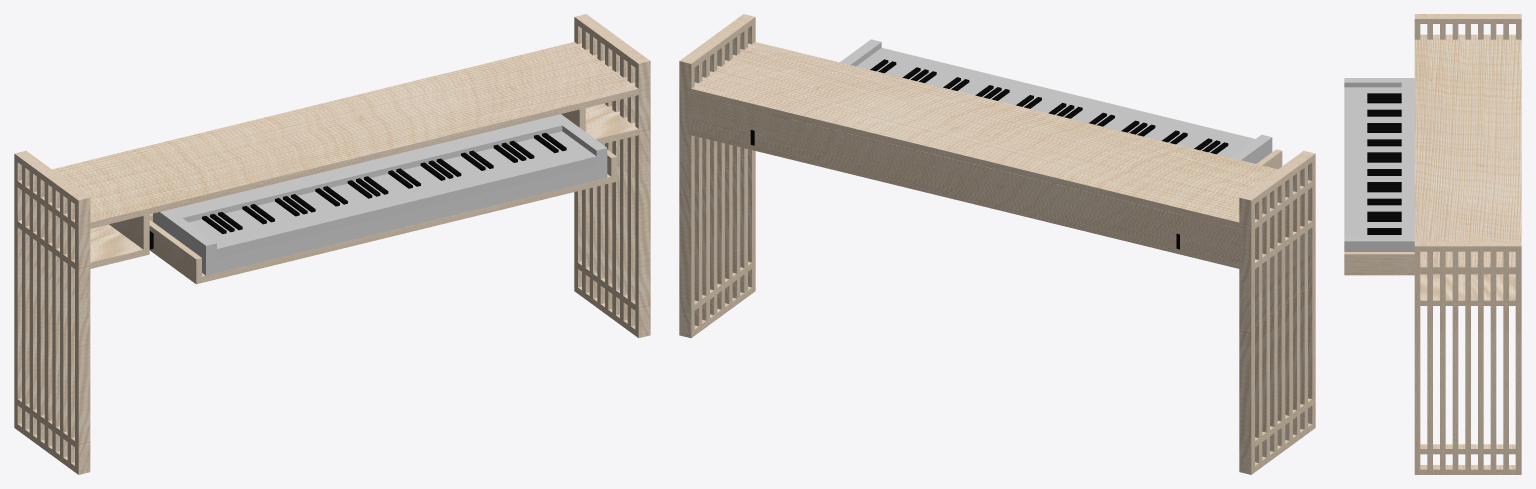
Rendered from site-assets-239.glb.
3 views of the same model, side by side, from view 1: azimuth 30°, elevation 25°; view 2: azimuth 150°, elevation 25°; view 3: azimuth 270°, elevation 25° (orthographic). The views are drawn at different scales.
Parts seen in each view (by area): view 1: Layer 02; view 2: Layer 02; view 3: Layer 02.
Part boxes in pixels (x1,y1,x2,y2): Layer 02: [14, 14, 650, 474]; Layer 02: [679, 14, 1315, 474]; Layer 02: [1344, 14, 1521, 474].
Bounding box in the file's own units: 1.83 × 0.8382 × 0.5892.
Materials: 5 (1 with a texture image).
